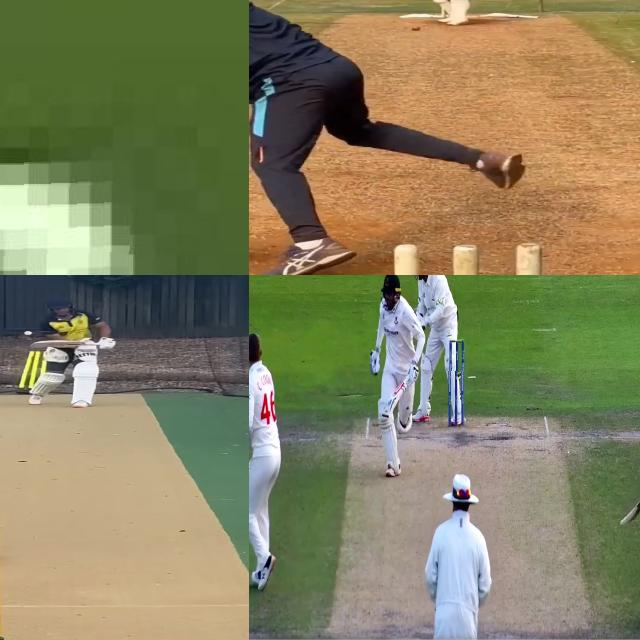Cricket ball: (0, 158, 131, 275), (23, 329, 33, 337), (411, 26, 421, 31)
Stumps: (448, 337, 466, 434)
